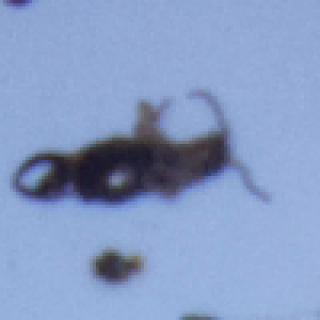earwig: (9, 84, 277, 209)
